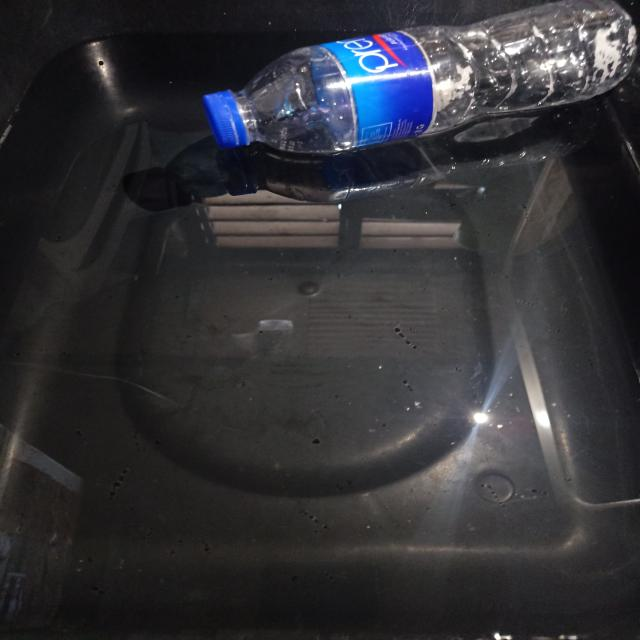Plastic Bottle: (203, 0, 637, 153)
